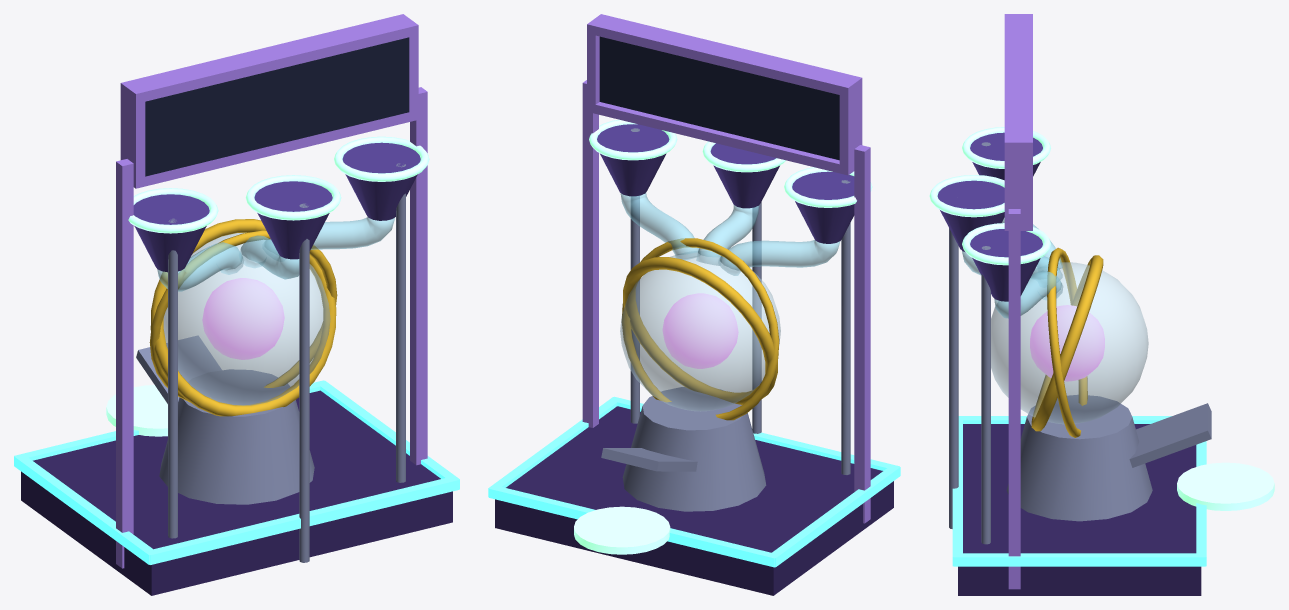
The model's file is Hub_FuseMachine.glb.
3 renders of one model, left to right at view 1: azimuth 30°, elevation 25°; view 2: azimuth 150°, elevation 25°; view 3: azimuth 270°, elevation 25°, orthographic. The views are drawn at different scales.
Parts seen in each view (by area): view 1: Base, Frame, Metal, Header, Orb, Hoppers, Trim, Ring, Tubes, Core, HopperGlow, OutputPad; view 2: Base, Frame, Metal, Orb, Header, Hoppers, Ring, Trim, Tubes, Core, OutputPad, HopperGlow; view 3: Metal, Base, Orb, Frame, Hoppers, Trim, Ring, OutputPad, HopperGlow, Core, Tubes.
Part boxes in pixels (x1,y1,x2,y2): Base: (21,390,452,595); Frame: (116,14,427,568); Metal: (136,163,405,562); Header: (145,37,409,176); Orb: (163,232,330,405); Hoppers: (133,142,420,272); Trim: (14,380,459,564); Ring: (149,219,337,416); Tubes: (157,216,394,291); Core: (202,278,284,359); HopperGlow: (128,136,429,233); OutputPad: (106,385,167,436); Base: (495,406,893,595); Frame: (582,14,870,523); Metal: (601,128,850,511); Orb: (620,251,780,411); Header: (599,36,839,160); Hoppers: (597,124,854,243); Ring: (621,238,779,420); Trim: (488,396,900,567); Tubes: (620,193,839,275); Core: (662,293,738,368); OutputPad: (574,506,670,554); HopperGlow: (589,119,872,207); Metal: (949,142,1211,544); Base: (958,424,1201,595); Orb: (991,262,1148,424); Frame: (1004,14,1032,589); Hoppers: (937,132,1042,301); Trim: (952,416,1206,566); Ring: (1031,247,1103,437); OutputPad: (1177,462,1274,510); HopperGlow: (929,127,1050,265); Core: (1030,305,1104,381); Tubes: (962,218,1062,318).
Bounding box in the file's own units: 8.25 × 12.2 × 8.5.
